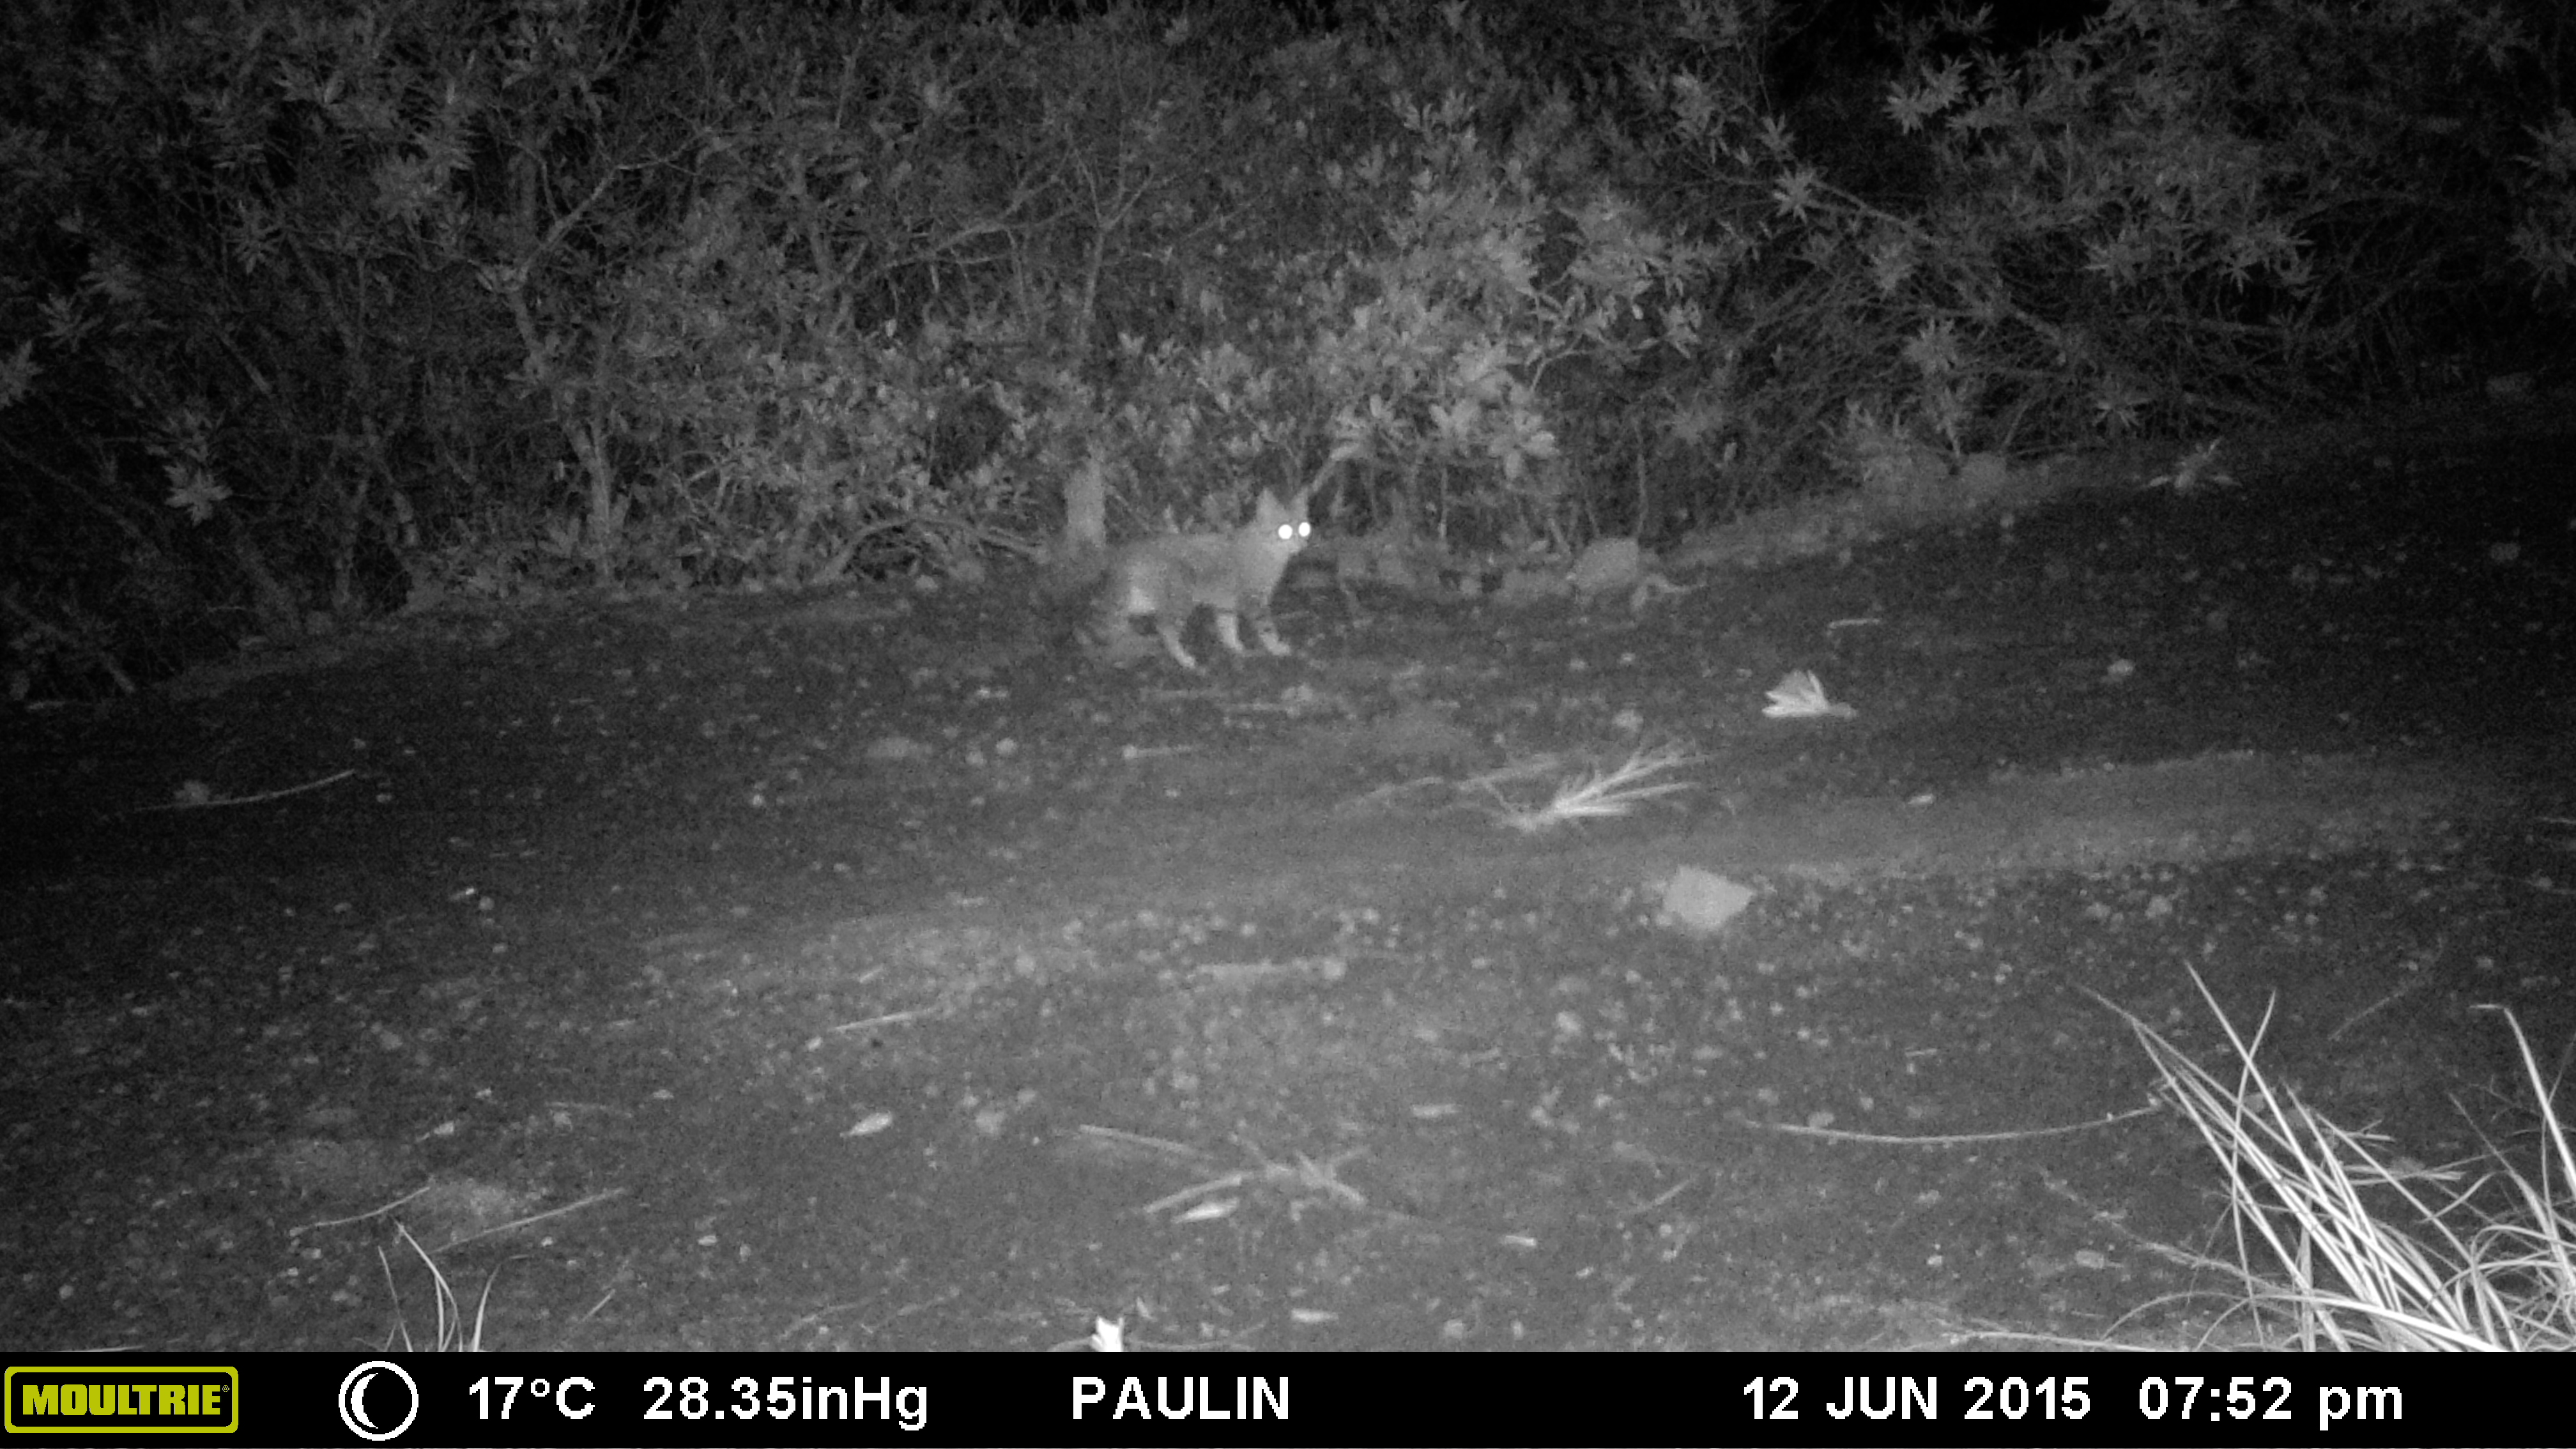cat: (1044, 471, 1334, 688)
